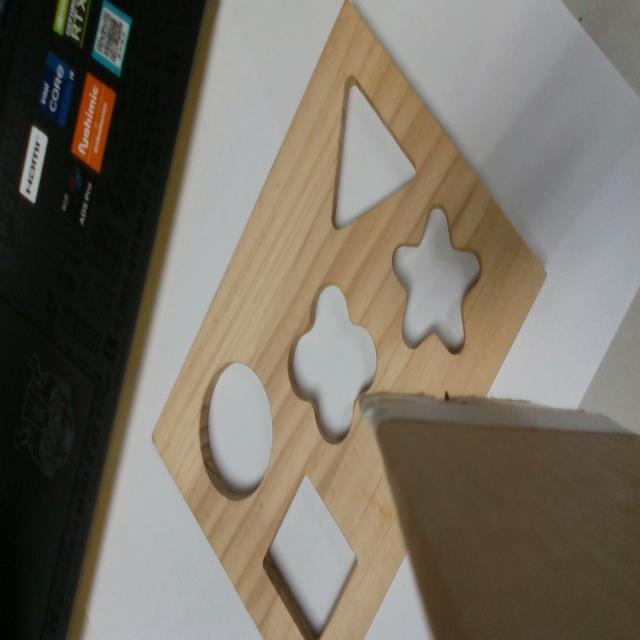circle: (198, 363, 273, 498)
flower: (289, 285, 378, 442)
square: (261, 472, 359, 637)
star: (390, 205, 480, 353)
triangle: (333, 75, 418, 231)
